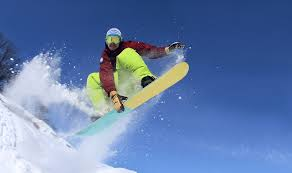snowboard: (74, 61, 191, 141)
